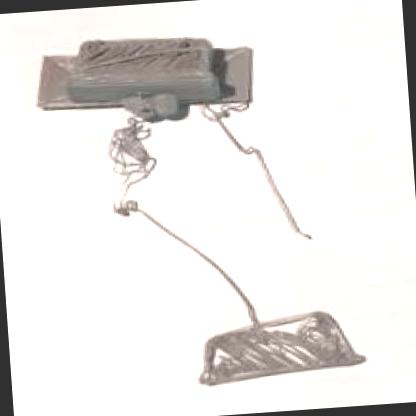fail: (96, 111, 322, 328)
